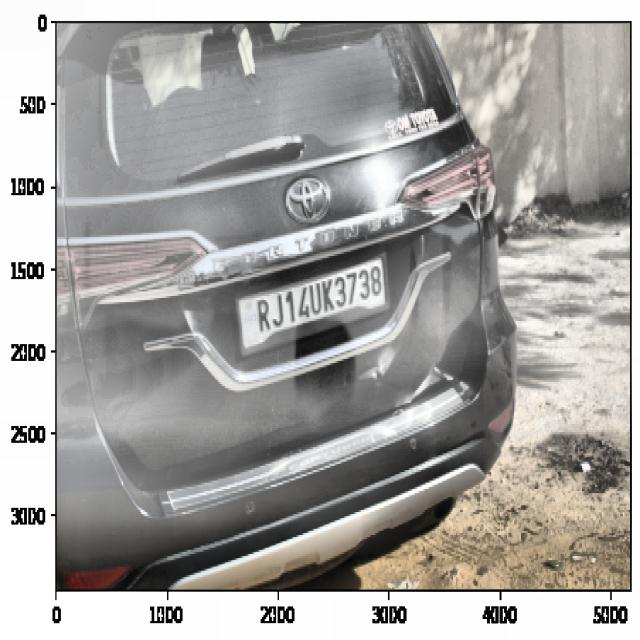license_plate: (253, 259, 385, 334)
